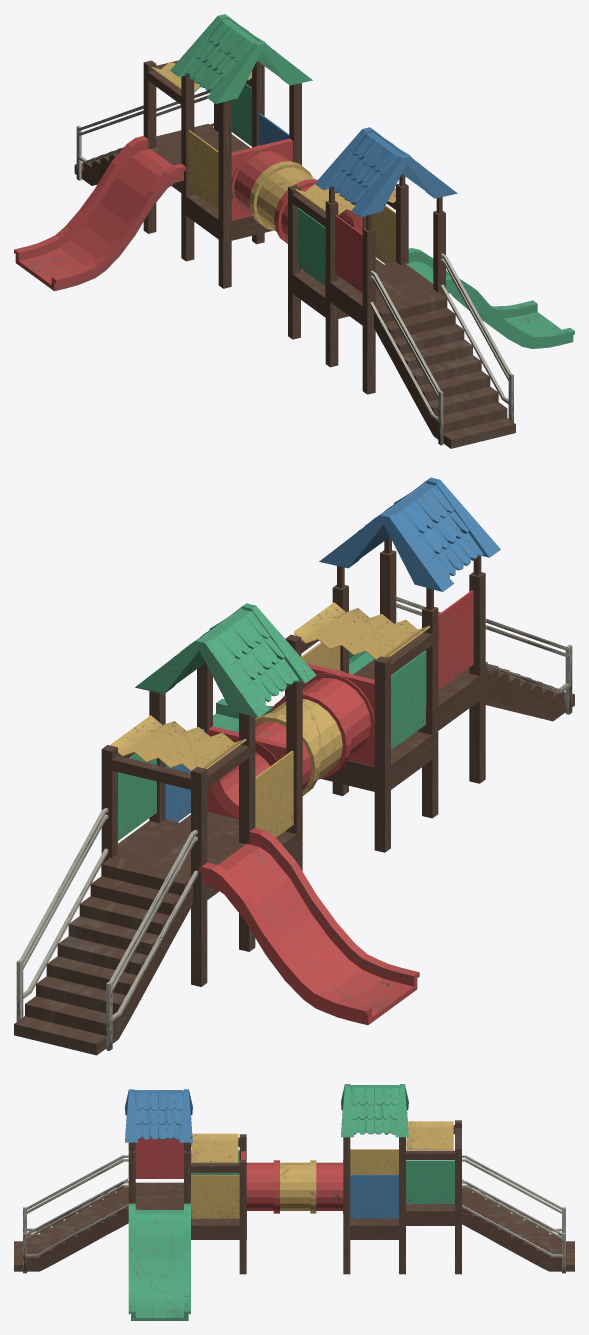
The model's file is fbx_playground_rides.fbx.
3 renders of one model, top to bottom at view 1: azimuth 30°, elevation 25°; view 2: azimuth 150°, elevation 25°; view 3: azimuth 270°, elevation 25°, orthographic. The views are drawn at different scales.
Visible parts, largest first — view 1: fbx_playground_rides; view 2: fbx_playground_rides; view 3: fbx_playground_rides.
Boxes of the visible parts, left/top/right/bottom form: fbx_playground_rides: left=14, top=14, right=574, bottom=448; fbx_playground_rides: left=14, top=477, right=574, bottom=1055; fbx_playground_rides: left=14, top=1084, right=574, bottom=1320.
Size of the model in its own units: 7.45 by 4.95 by 14.39.
Materials: 1 (1 with a texture image).
